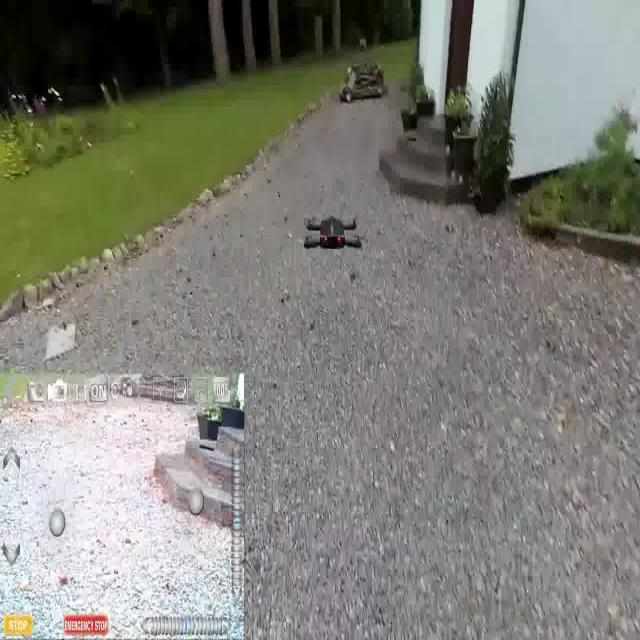drone: (299, 206, 369, 254)
